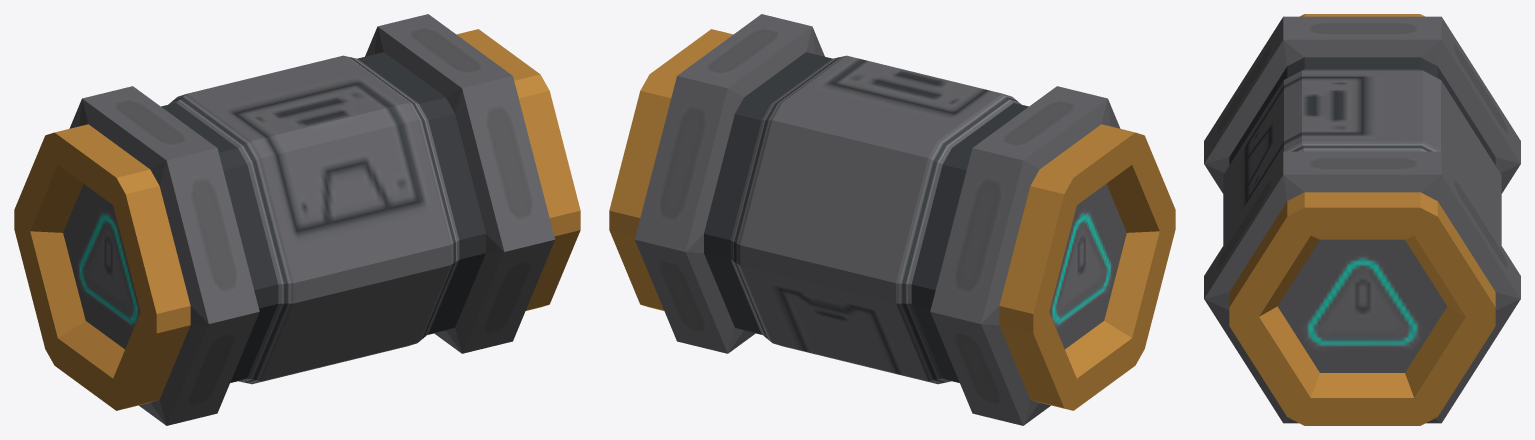
The model's file is SM_Prop_SciFiCrate_02.fbx.
The picture shows the model from 3 angles, left to right: view 1: azimuth 30°, elevation 25°; view 2: azimuth 150°, elevation 25°; view 3: azimuth 270°, elevation 25°; orthographic projection. The views are drawn at different scales.
Visible parts, largest first — view 1: SM_Prop_SciFiCrate_02; view 2: SM_Prop_SciFiCrate_02; view 3: SM_Prop_SciFiCrate_02.
Boxes of the visible parts, box(x1,y1,x2,y2) form: SM_Prop_SciFiCrate_02: box(14, 14, 580, 425); SM_Prop_SciFiCrate_02: box(609, 14, 1175, 425); SM_Prop_SciFiCrate_02: box(1204, 14, 1520, 425).
Size of the model in its own units: 142 by 85.21 by 98.39.
1 material, 1 textured.
